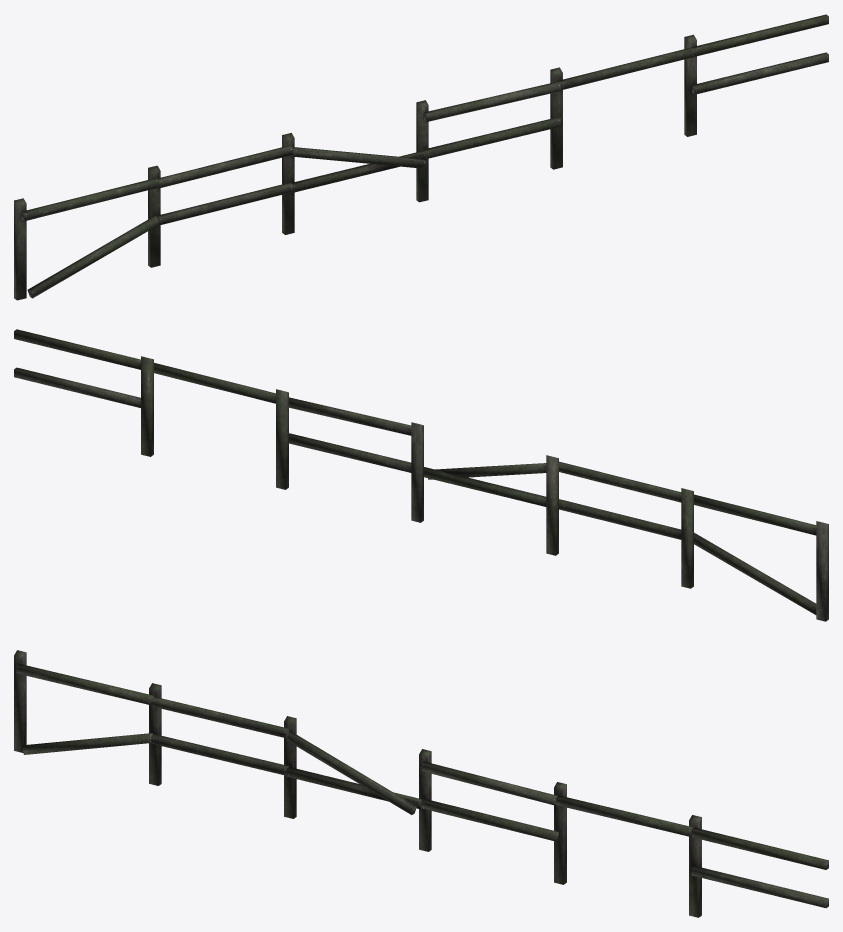
File: woodFence.glb
The picture shows the model from 3 angles, top to bottom: view 1: azimuth 30°, elevation 25°; view 2: azimuth 150°, elevation 25°; view 3: azimuth 330°, elevation 25°; orthographic projection.
Visible parts, largest first — view 1: fence1, fence6, fence5, fence1.001, fence4, fence3; view 2: fence1, fence6, fence1.001, fence5, fence4, fence3; view 3: fence6, fence5, fence1.001, fence1, fence4, fence3.
Part boxes in pixels (bbox=[...]): fence1: bbox=[14, 178, 159, 300]; fence6: bbox=[684, 14, 828, 136]; fence5: bbox=[416, 81, 560, 202]; fence1.001: bbox=[148, 145, 292, 267]; fence4: bbox=[282, 133, 426, 234]; fence3: bbox=[550, 47, 694, 169]; fence1: bbox=[694, 494, 828, 621]; fence6: bbox=[14, 329, 153, 456]; fence1.001: bbox=[559, 461, 693, 588]; fence5: bbox=[289, 397, 423, 522]; fence4: bbox=[424, 455, 558, 555]; fence3: bbox=[154, 363, 288, 489]; fence6: bbox=[689, 815, 828, 917]; fence5: bbox=[419, 749, 558, 851]; fence1.001: bbox=[149, 683, 288, 785]; fence1: bbox=[14, 650, 153, 754]; fence4: bbox=[284, 716, 422, 818]; fence3: bbox=[554, 782, 693, 884].
Bounding box in the file's own units: 42.25 × 4.88 × 0.8367.
Materials: 1 (1 with a texture image).
